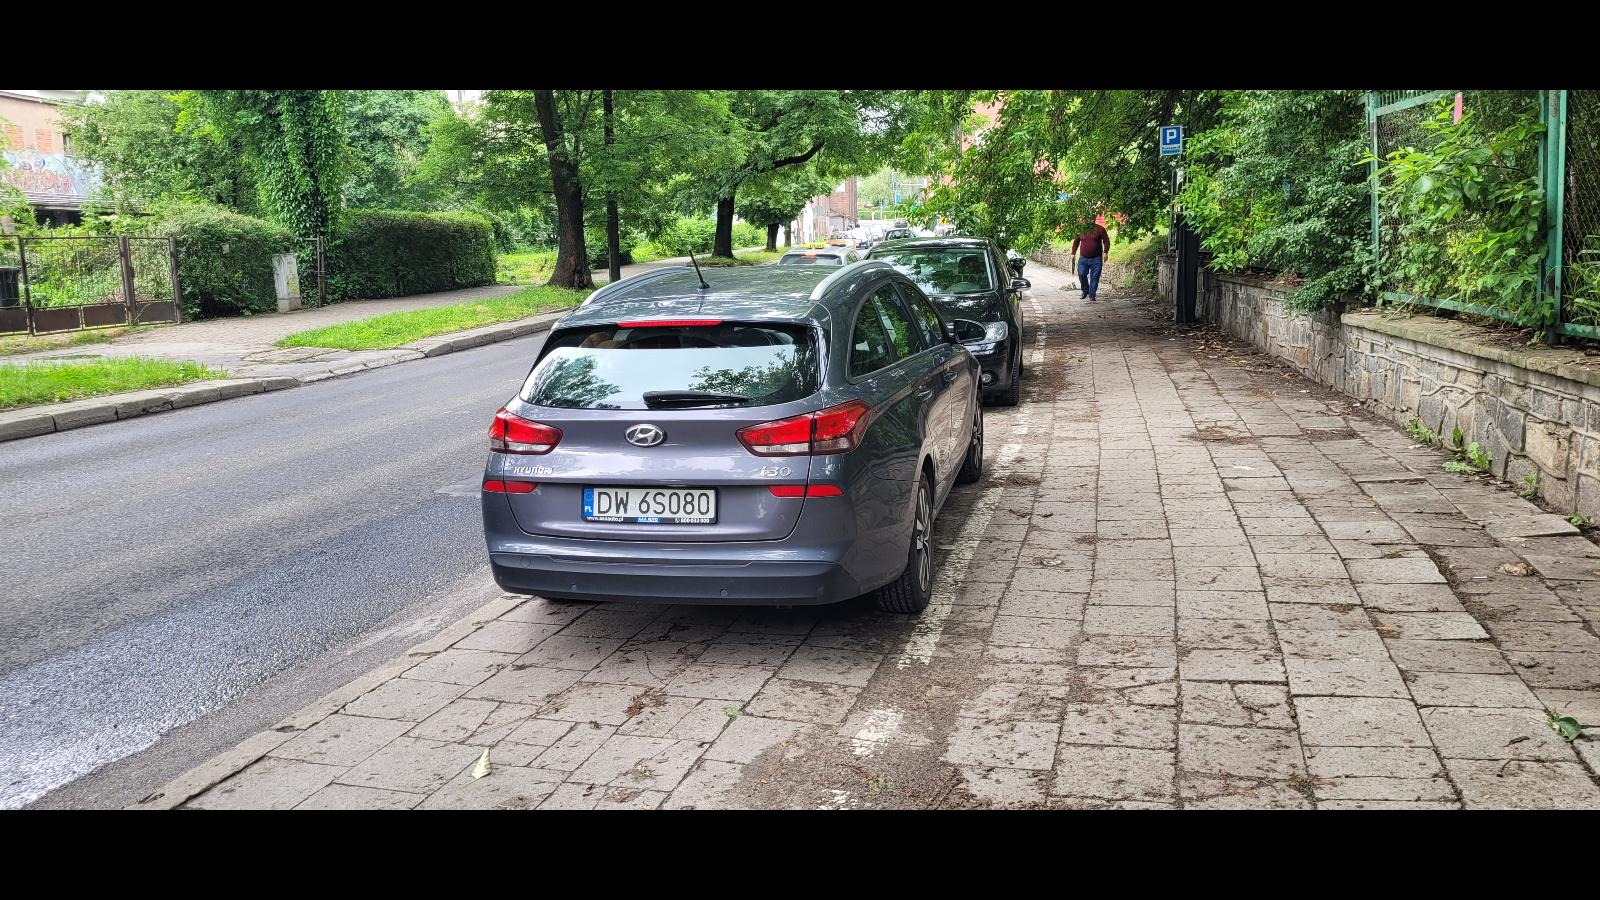plates: (580, 484, 718, 526)
